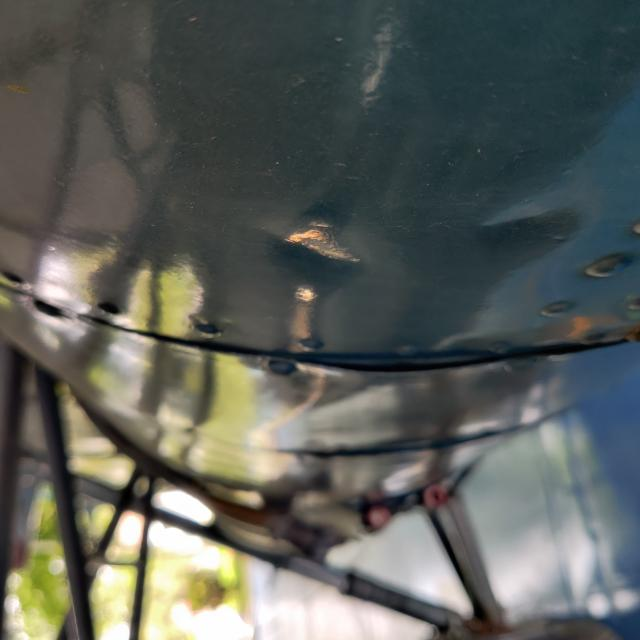dent: (362, 465, 472, 604), (328, 252, 444, 380)
